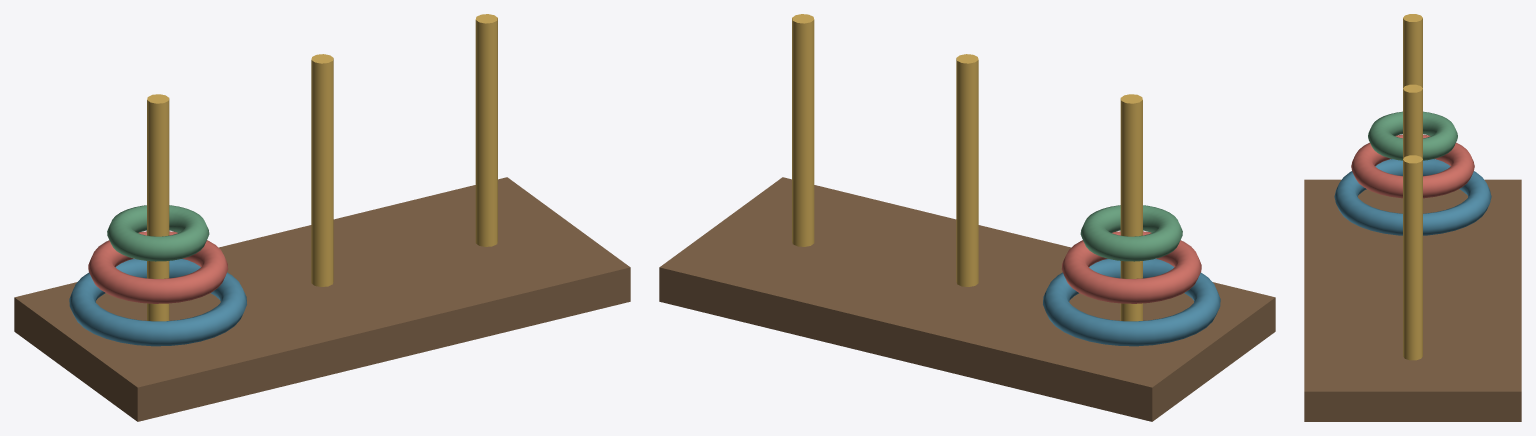
3 views of the same model, side by side, from view 1: azimuth 30°, elevation 25°; view 2: azimuth 150°, elevation 25°; view 3: azimuth 270°, elevation 25° (orthographic). The views are drawn at different scales.
Size of the model in its own units: 1.5 by 0.75 by 0.65.
